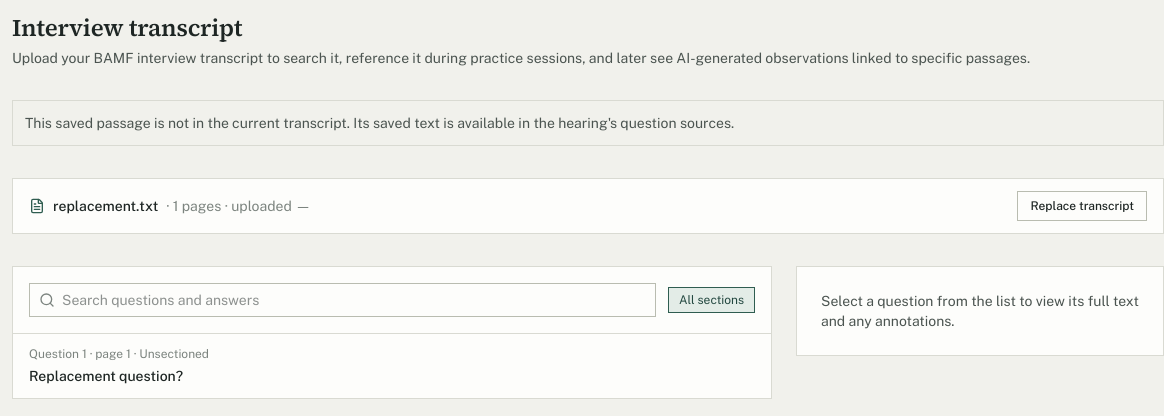
Scenario: does not substitute a replacement transcript passage for an older source
This screenshot has width=1164, height=416.
Expected: the text "This saved passage is not in the current transcript" is shown, [25,115,734,131]
Expected: the text "Select a question from the list to view its full text and any annotations." is shown, [821,291,1139,331]
Click the button "Question 1 · page 1 · Unsectioned Replacement question?": (55, 354) [13,334,771,398]
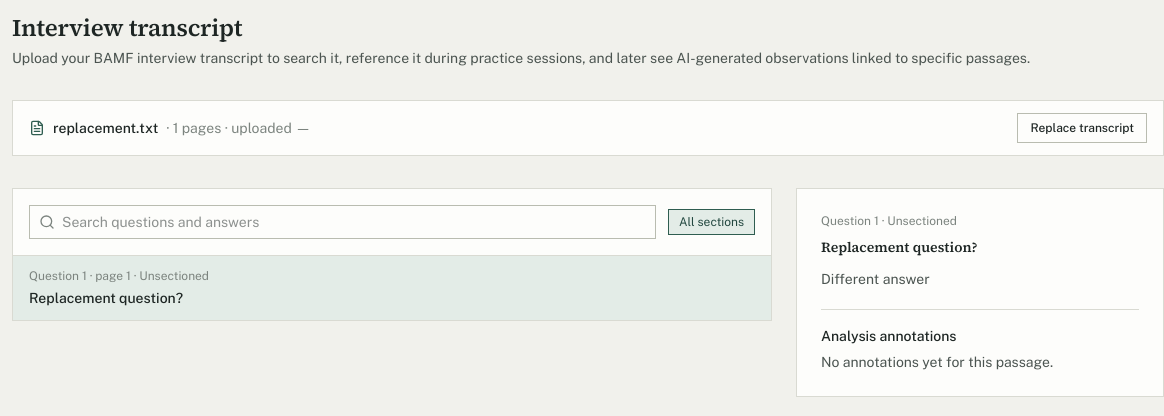
Result: the text "Different answer" is shown at [821,271,930,287]
